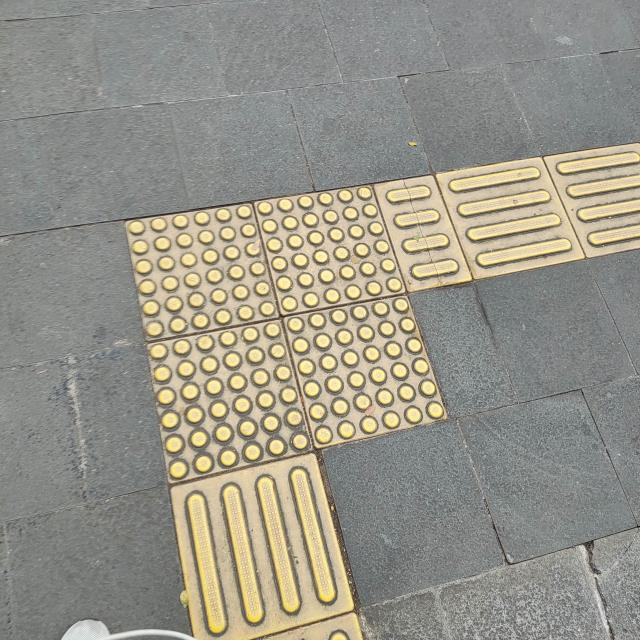kanan: (37, 124, 640, 506)
